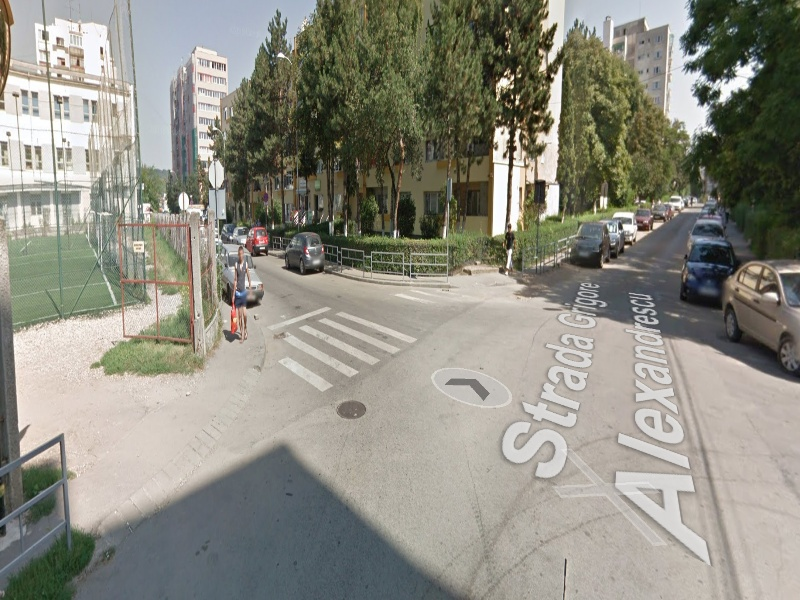crosswalk: (265, 285, 483, 393)
pedestrian: (224, 247, 258, 345)
